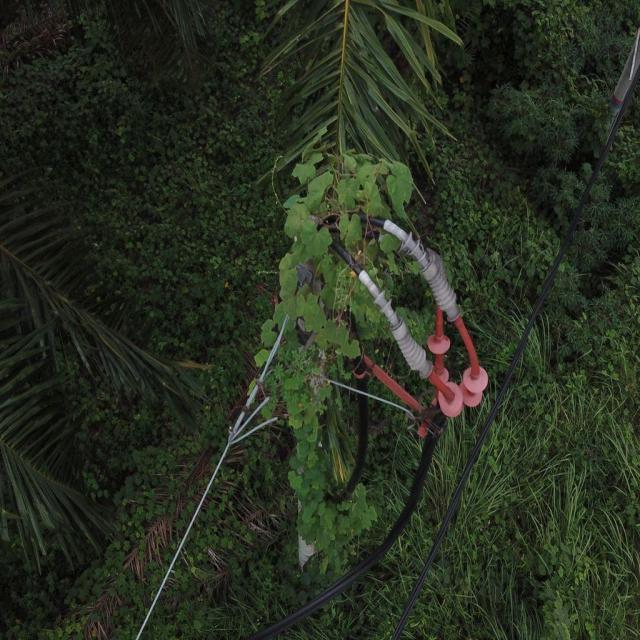critical vegetation: (258, 140, 418, 567)
